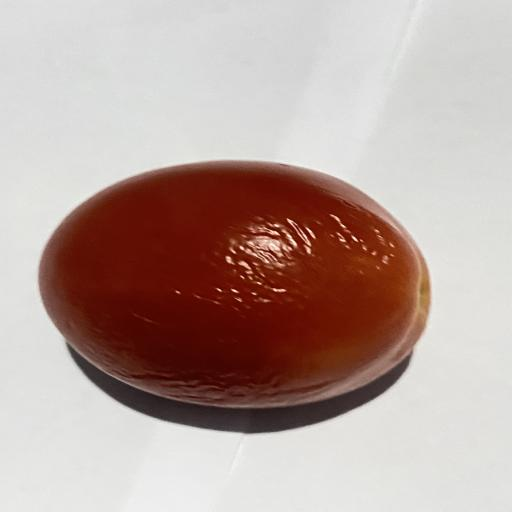spoiled: (39, 161, 429, 408)
